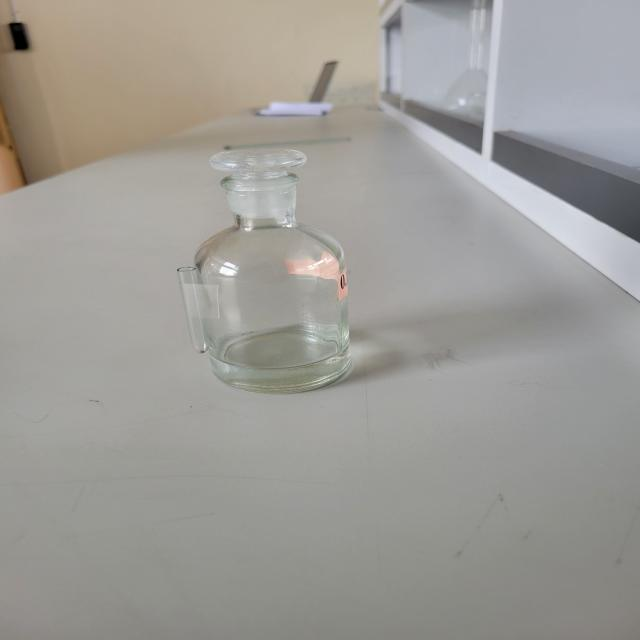Reagent_Bottle: (85, 118, 374, 442)
